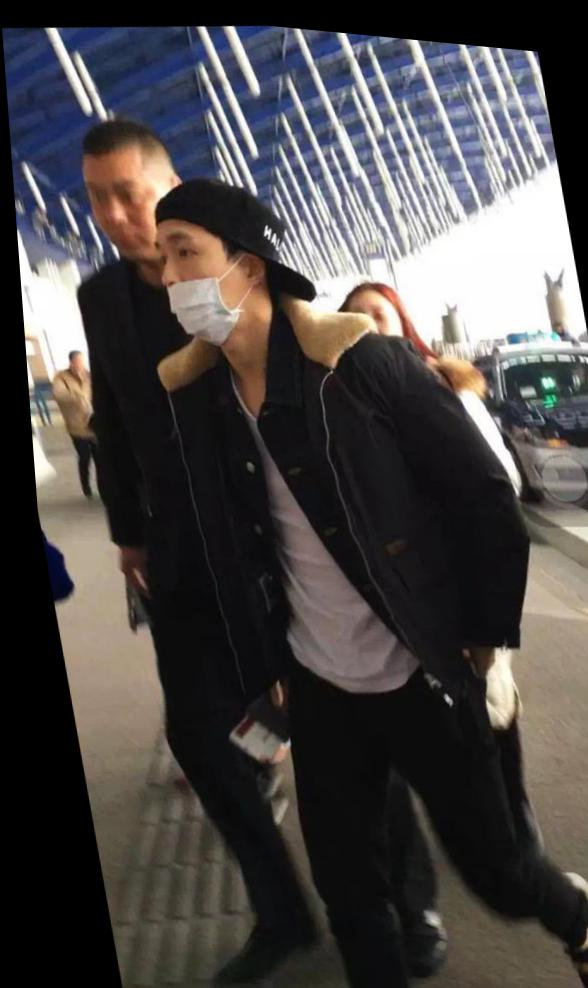NONE: (82, 161, 171, 258)
WRONG: (150, 217, 259, 343)
